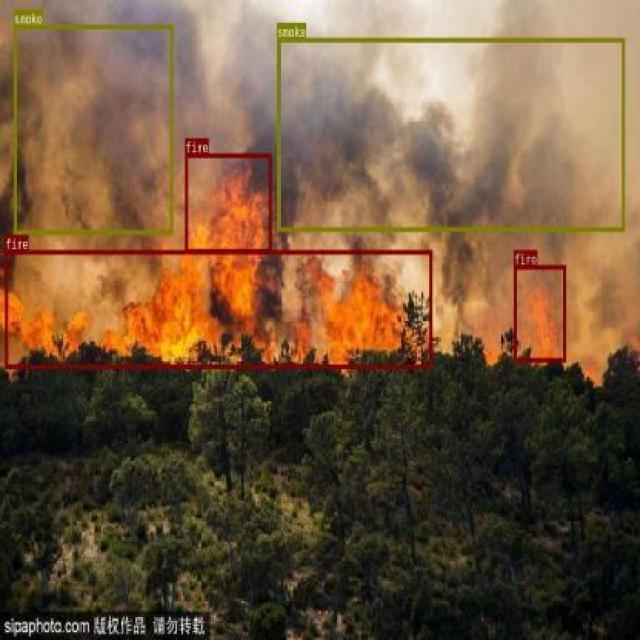Fire: (0, 183, 452, 372)
Smoke: (5, 0, 640, 312)
